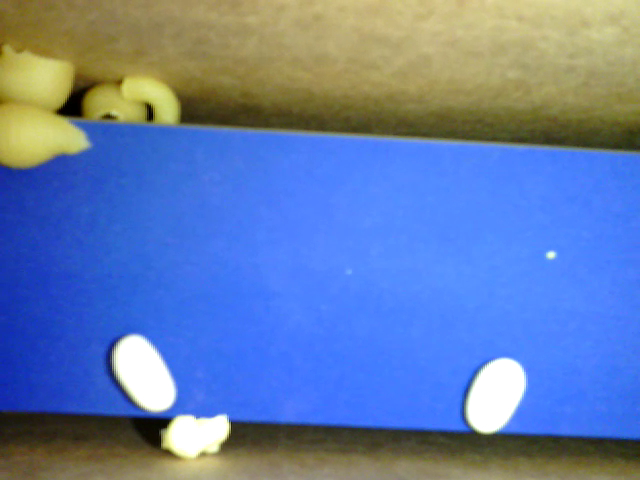elbow: (119, 71, 183, 124)
shell: (1, 103, 95, 170), (1, 45, 79, 113), (82, 84, 150, 123)
